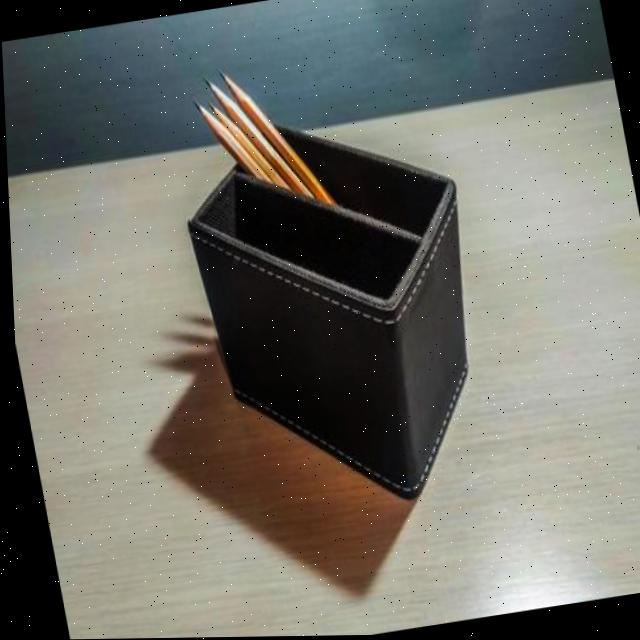pencil: (209, 57, 343, 209), (198, 70, 315, 201), (205, 91, 292, 197), (190, 98, 272, 187)
